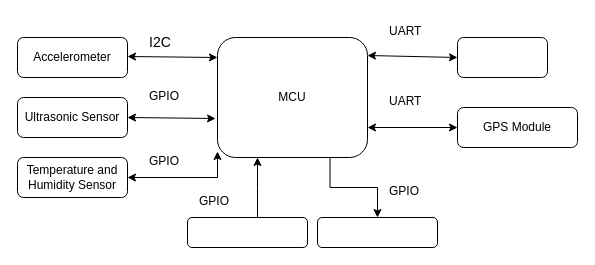
Some shapes in this 595 by 265 pixel diagram are drawn without their labels. The shapes that lost their labels are listed below. From the top down, each one's centre as x and y in pixels, then its label:
At pixel 502 57: "GSM Module".
At pixel 247 232: "Transmit Button".
At pixel 377 232: "Calibration LED".
